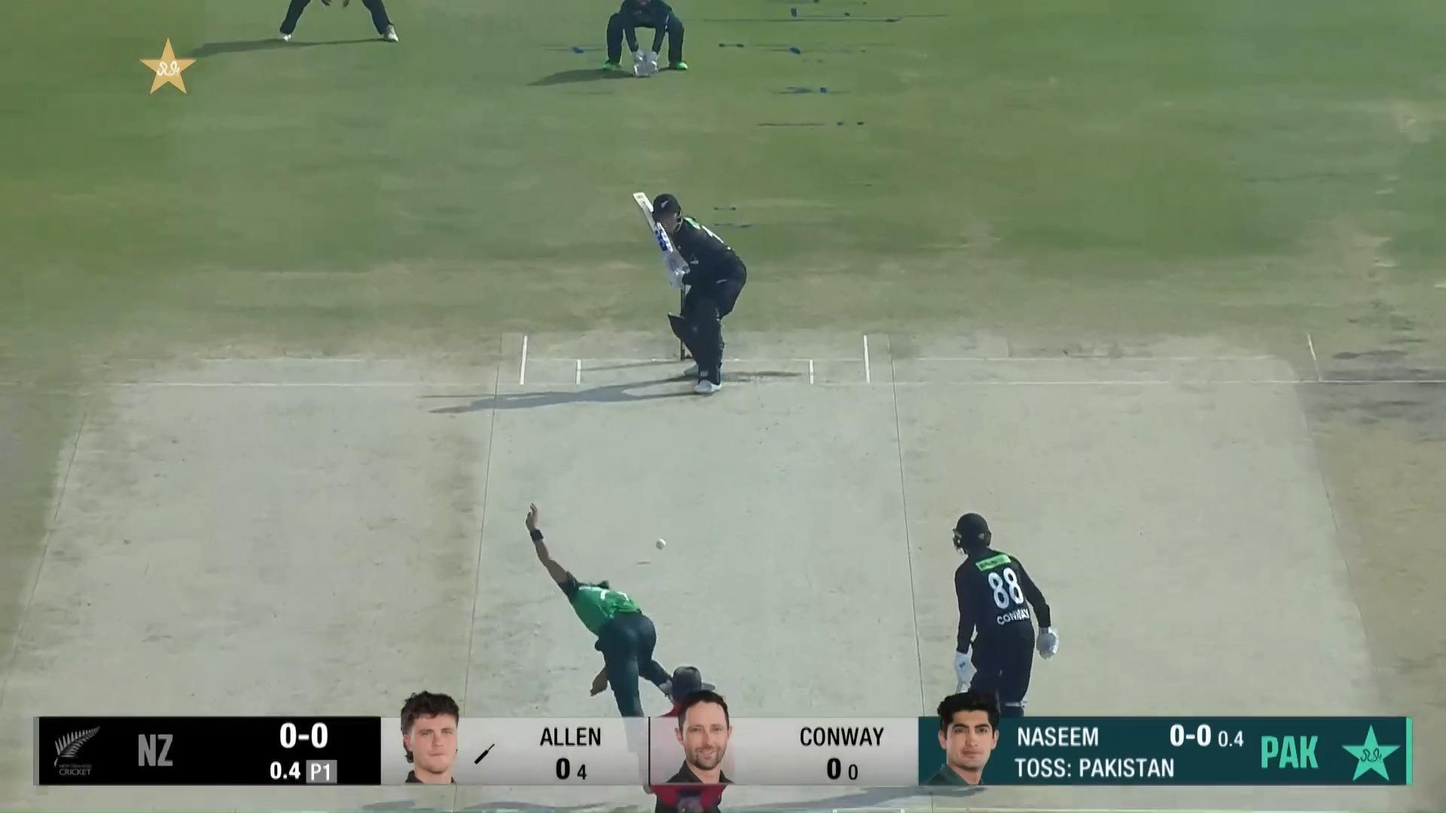BM 1: (632, 192, 747, 394)
BO: (526, 501, 676, 717)
